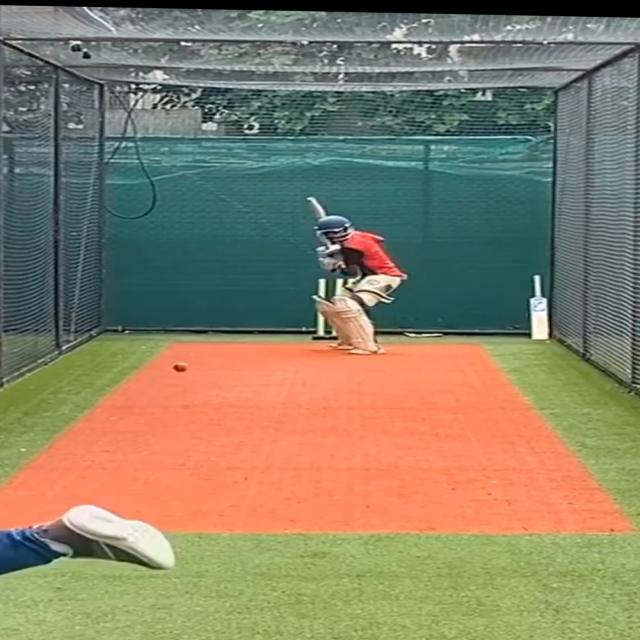ball: (168, 359, 191, 375)
stump: (314, 274, 362, 340)
